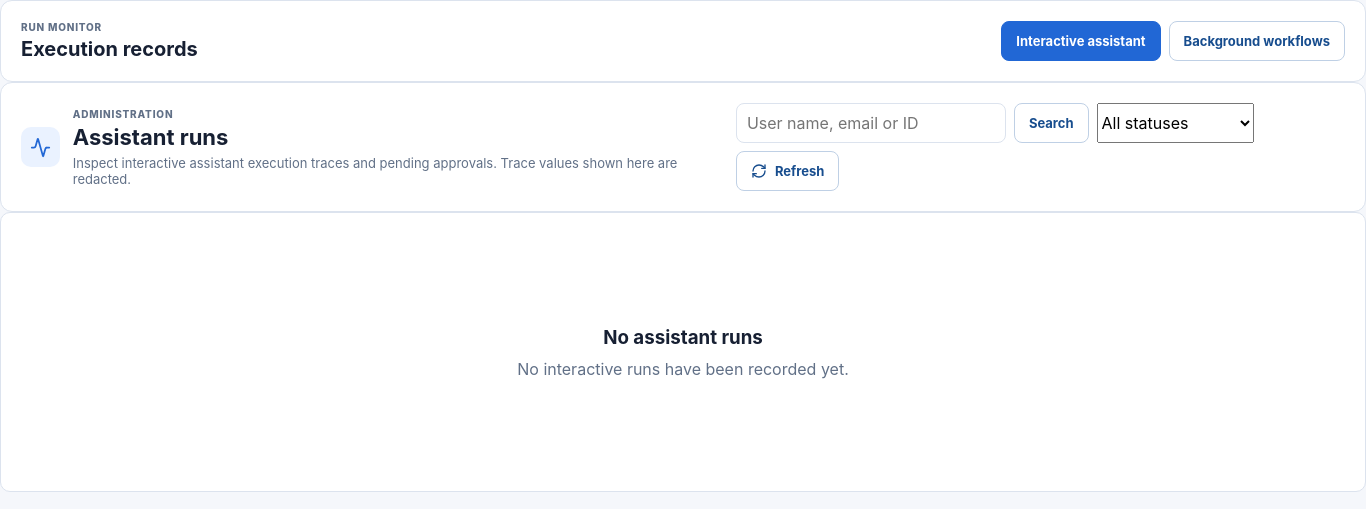
AdminAssistantRunsPage › shows a useful empty state for unmatched filters
Expected: the text "No interactive runs have been recorded yet." is shown, left=517, top=358, right=849, bottom=378
Select "Failed" in the dropdown named "Run status filter" at (1175, 123), box left=1096, top=103, right=1254, bottom=143
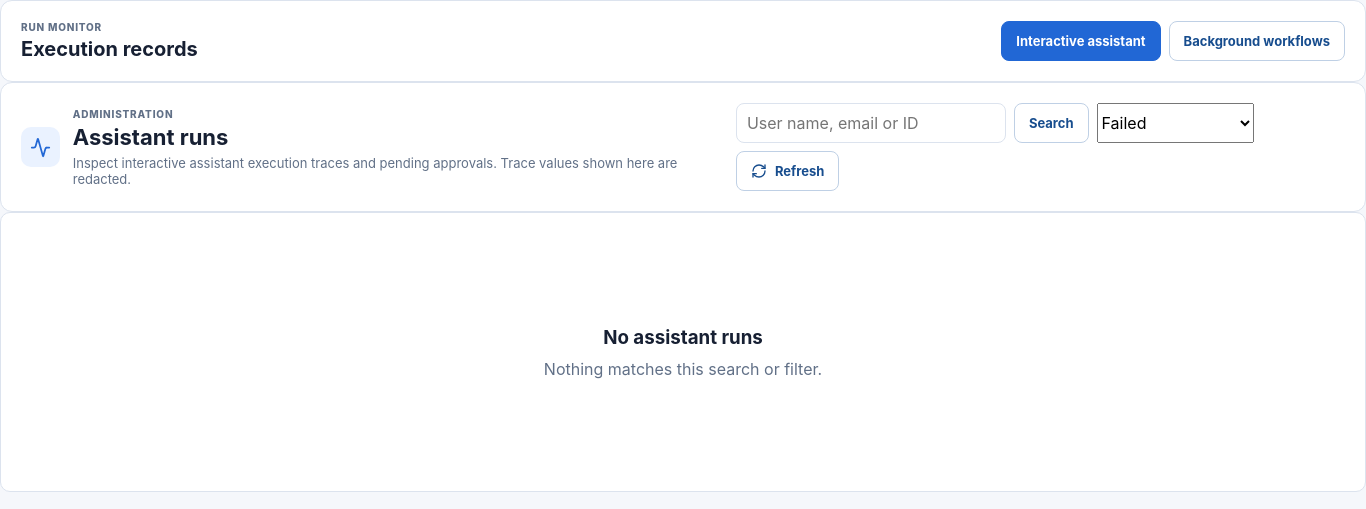
Expected: the text "Nothing matches this search or filter." is shown, left=544, top=358, right=822, bottom=378
